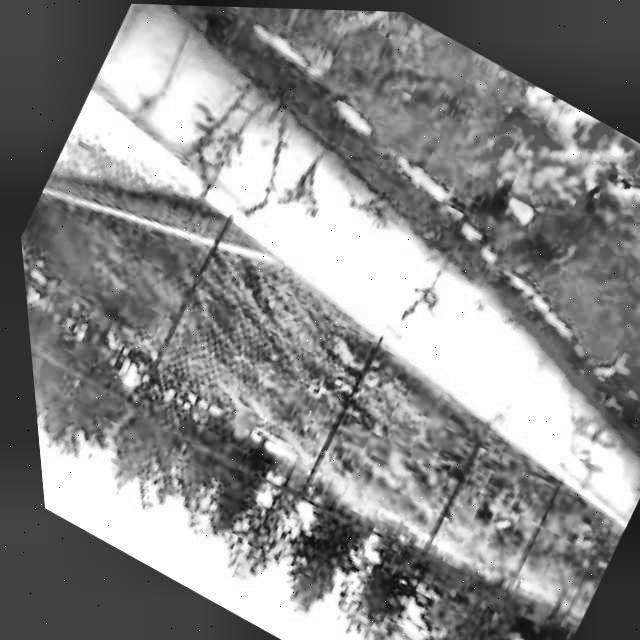Fire: (450, 65, 640, 252)
